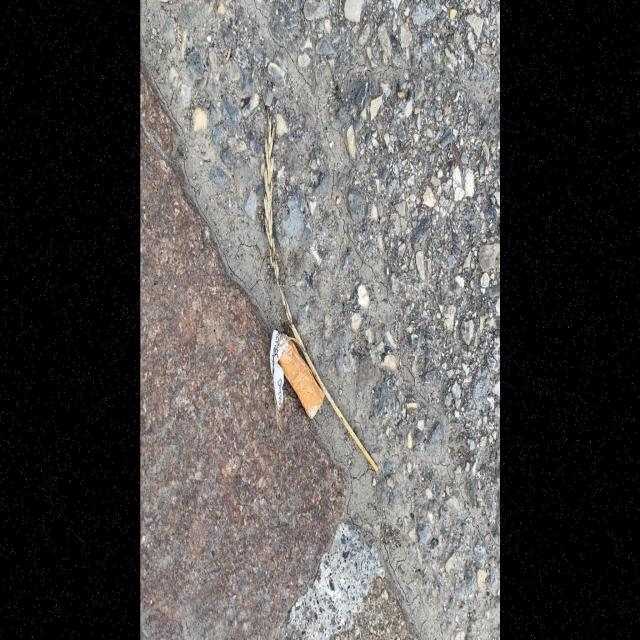other waste: (269, 330, 325, 420)
